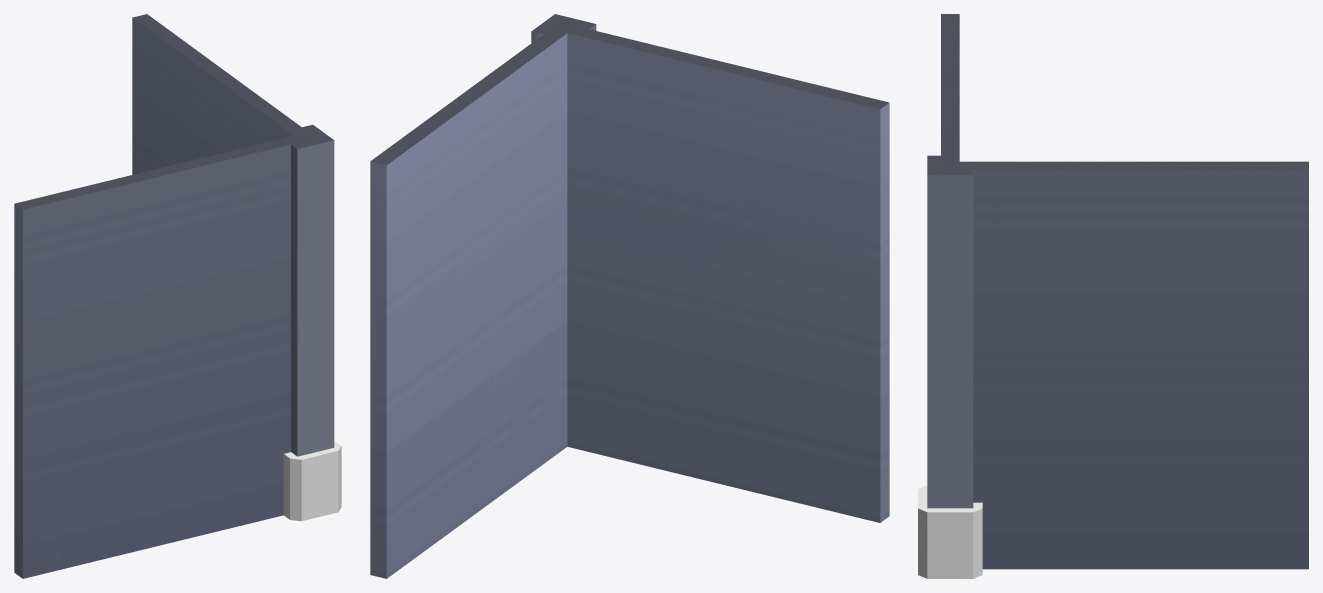
Rendered from wall-corner-column-bottom.glb.
The picture shows the model from 3 angles, left to right: view 1: azimuth 30°, elevation 25°; view 2: azimuth 150°, elevation 25°; view 3: azimuth 270°, elevation 25°; orthographic projection. The views are drawn at different scales.
Parts seen in each view (by area): view 1: wall-corner-column-bottom; view 2: wall-corner-column-bottom; view 3: wall-corner-column-bottom.
Boxes of the visible parts, x1,y1,x2,y2 form: wall-corner-column-bottom: (14, 14, 341, 578); wall-corner-column-bottom: (370, 14, 889, 578); wall-corner-column-bottom: (918, 14, 1308, 578).
Bounding box in the file's own units: 2.13 × 2.4 × 2.13.
1 material, 1 textured.
